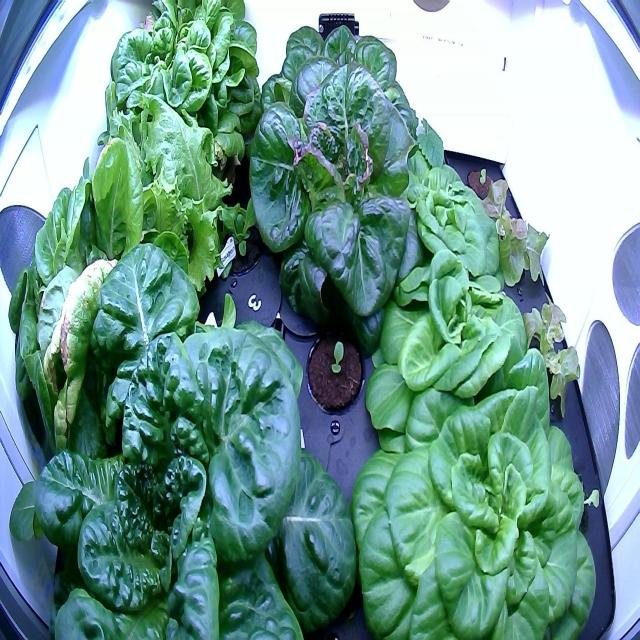Ready: (4, 236, 363, 636), (0, 134, 197, 453), (236, 57, 442, 349), (80, 0, 266, 191), (251, 16, 431, 180)
germination: (298, 321, 372, 423), (464, 158, 499, 206)
young: (340, 368, 600, 640), (358, 236, 552, 436), (364, 148, 509, 315), (198, 175, 268, 286)
